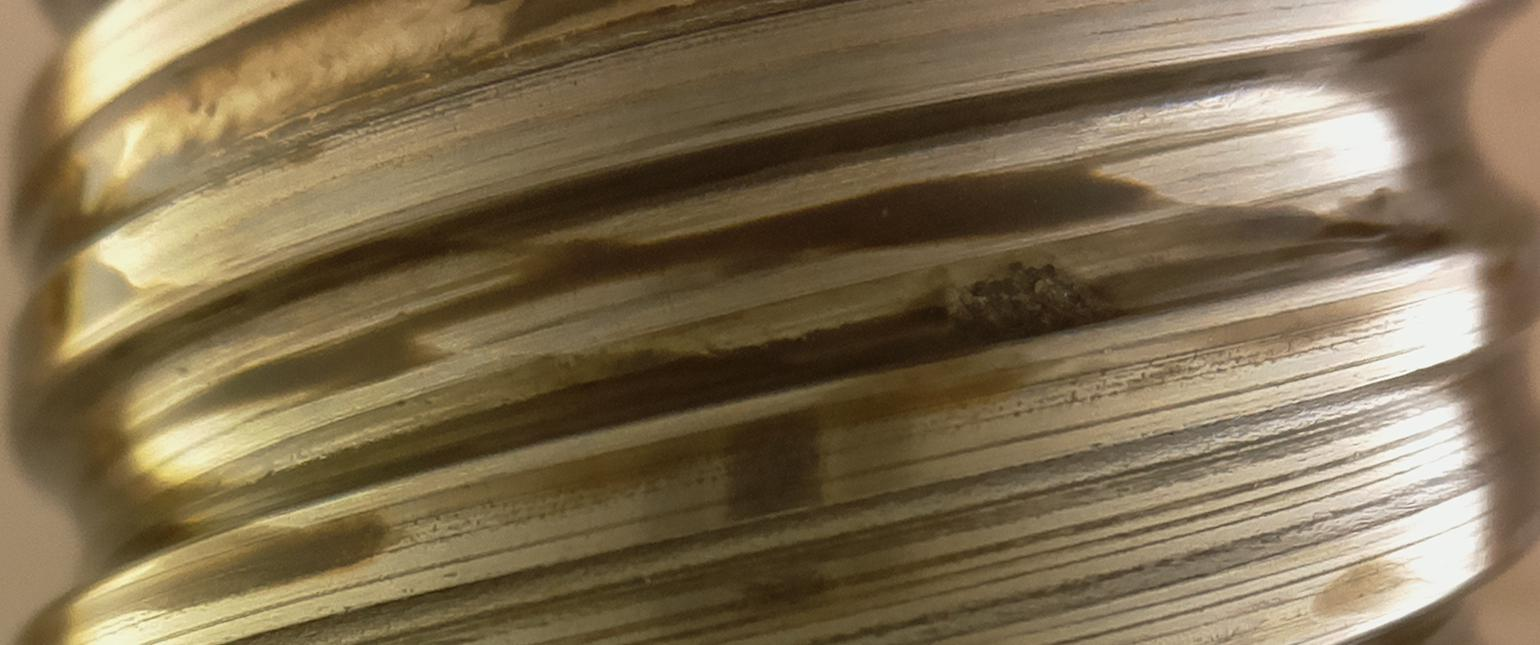pitting: (965, 261, 1123, 346)
